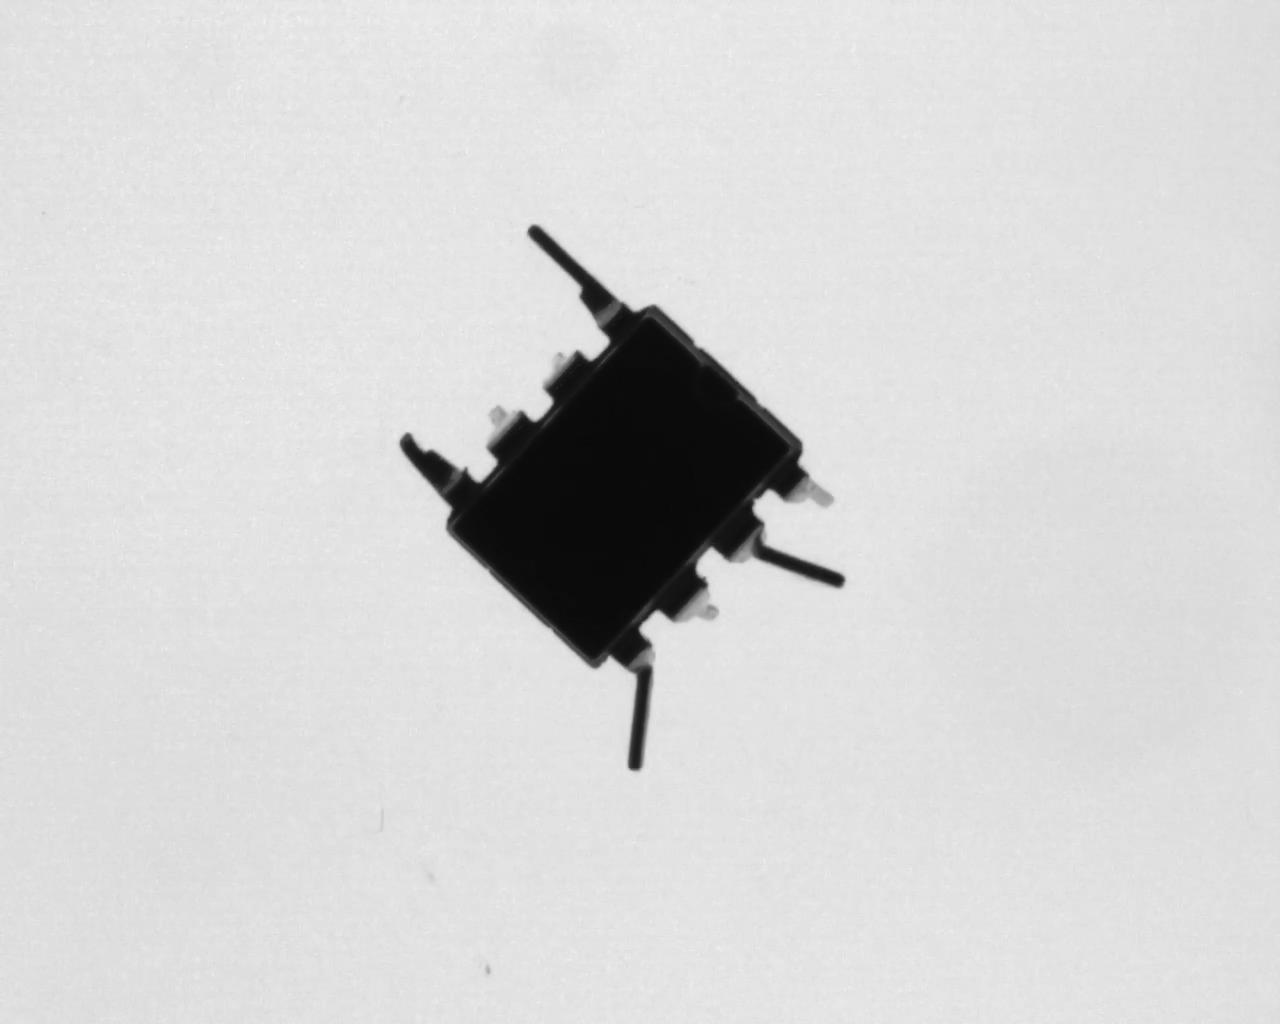Leg: (526, 225, 641, 342), (718, 510, 851, 589), (613, 629, 658, 772), (399, 432, 473, 505), (658, 572, 720, 625), (771, 462, 836, 510), (487, 404, 534, 459), (541, 347, 587, 401)
